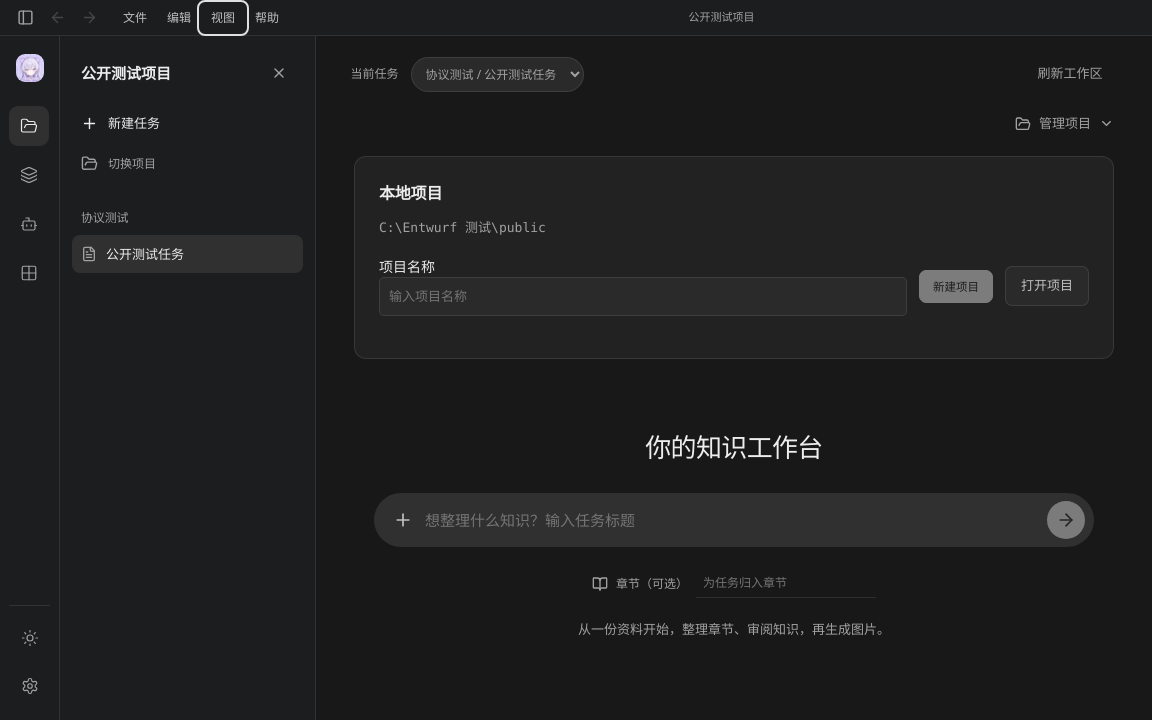
Test: quick jump works from keyboard and restores focus on Escape
expect the dropdown labelled "当前任务" is shown: met, box [411,56,584,92]
Type keys "{Control>}k{/Control}"
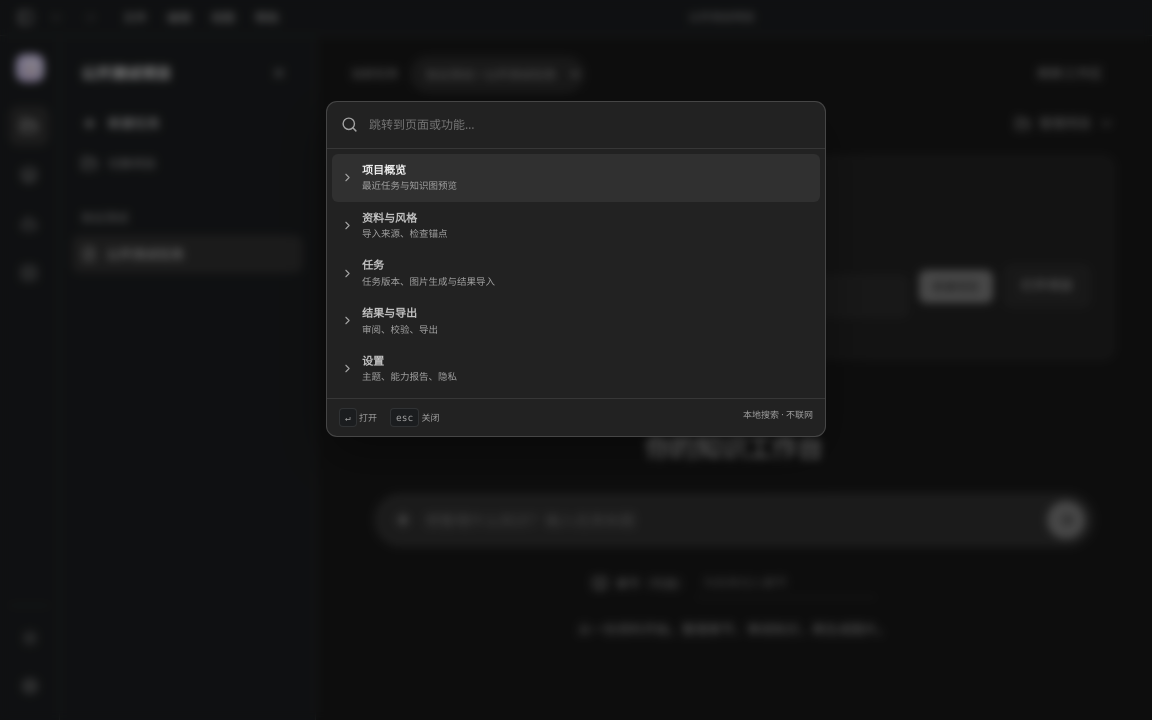
expect the dialog is shown: met, box [326,101,826,437]
Press Escape
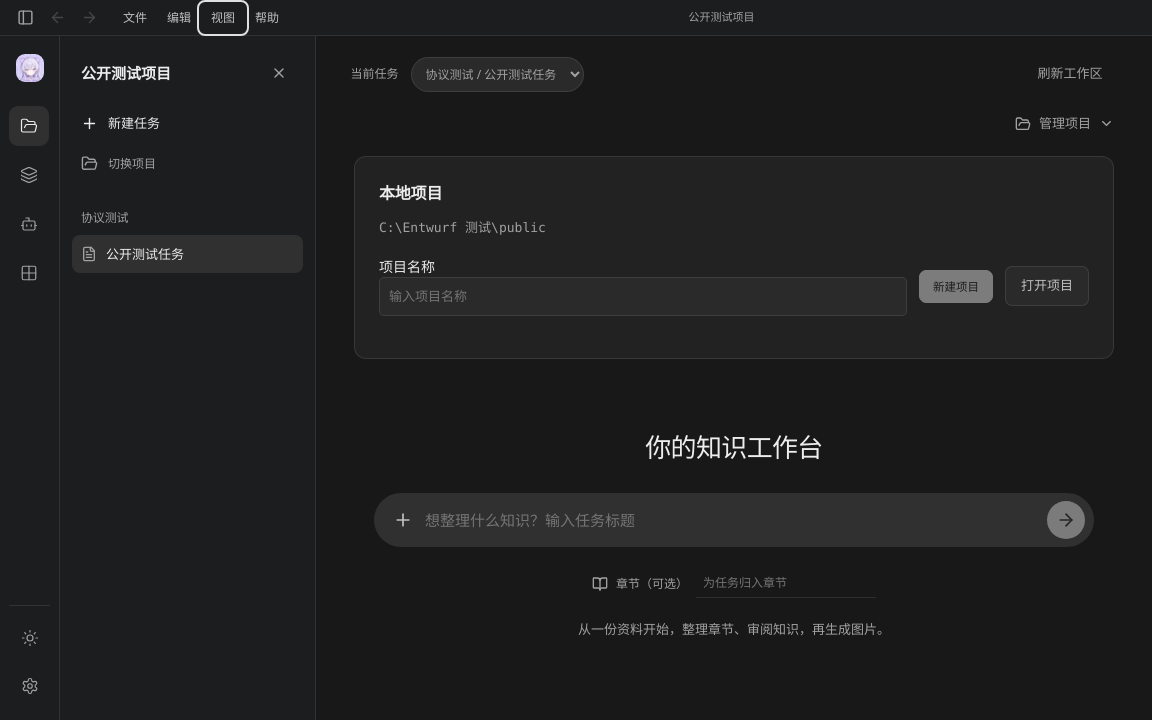
Click the button "视图" at (223, 18), box [201,4,245,32]
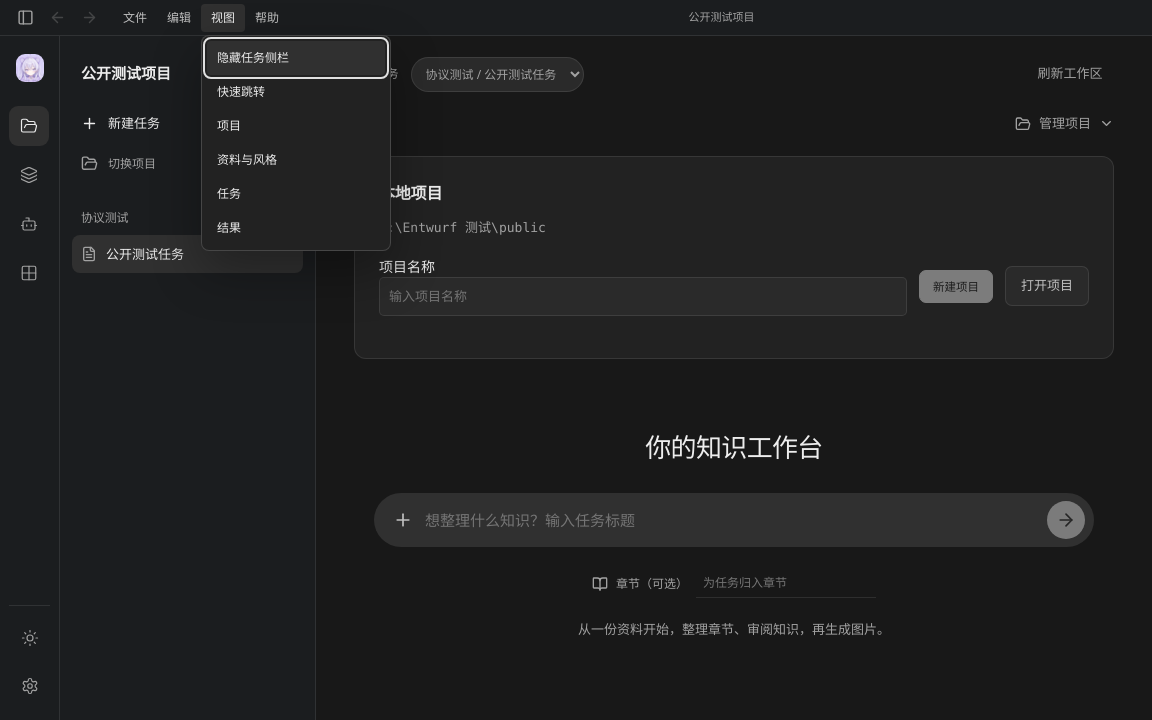
Click the menu item "快速跳转" at (296, 92), box [207,74,385,108]
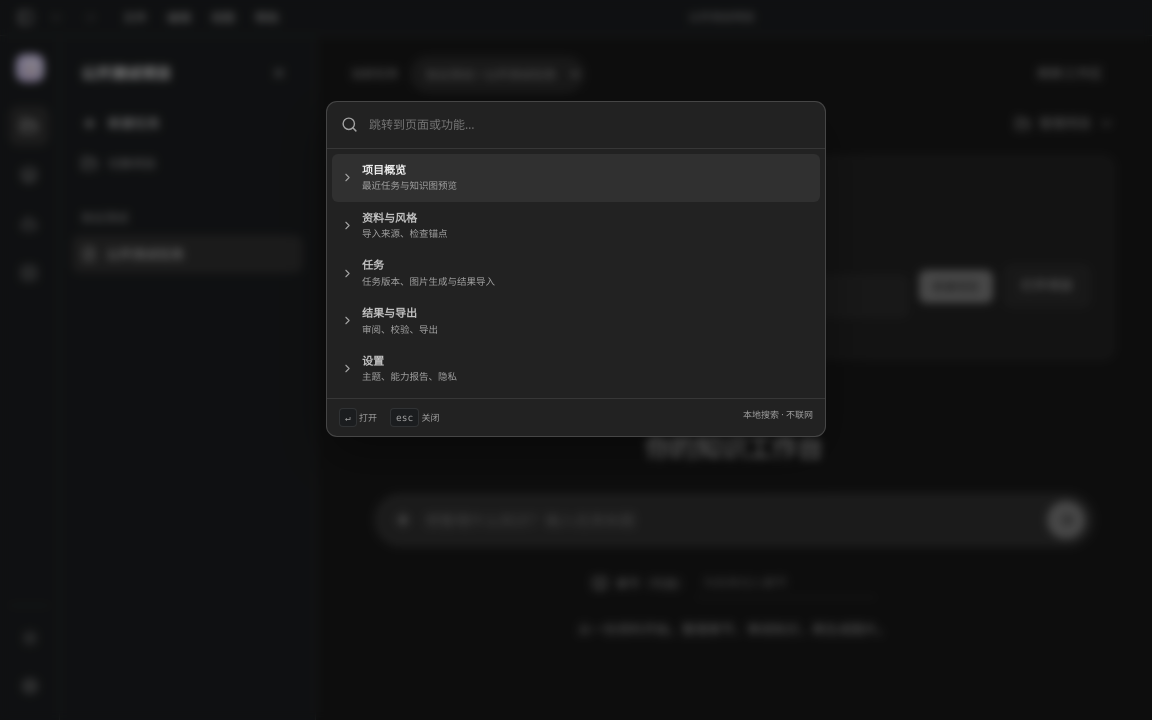
Type "设置" into the field named "搜索页面" at (589, 125), box [367,115,811,135]
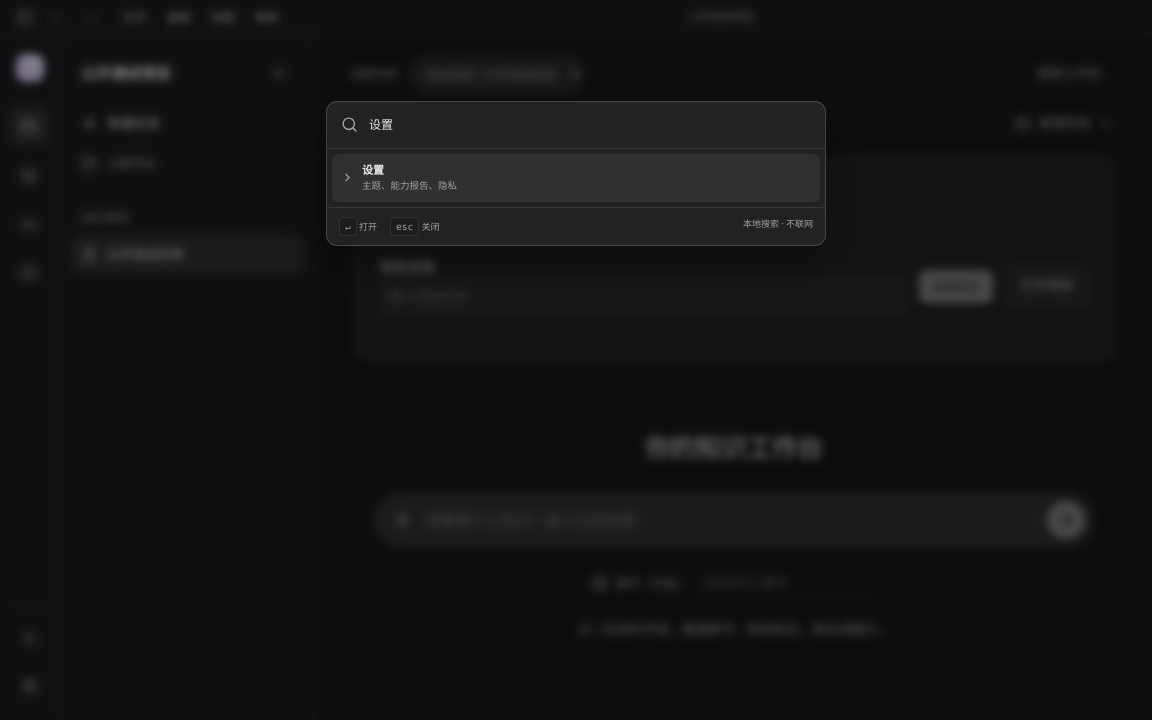
Press Enter
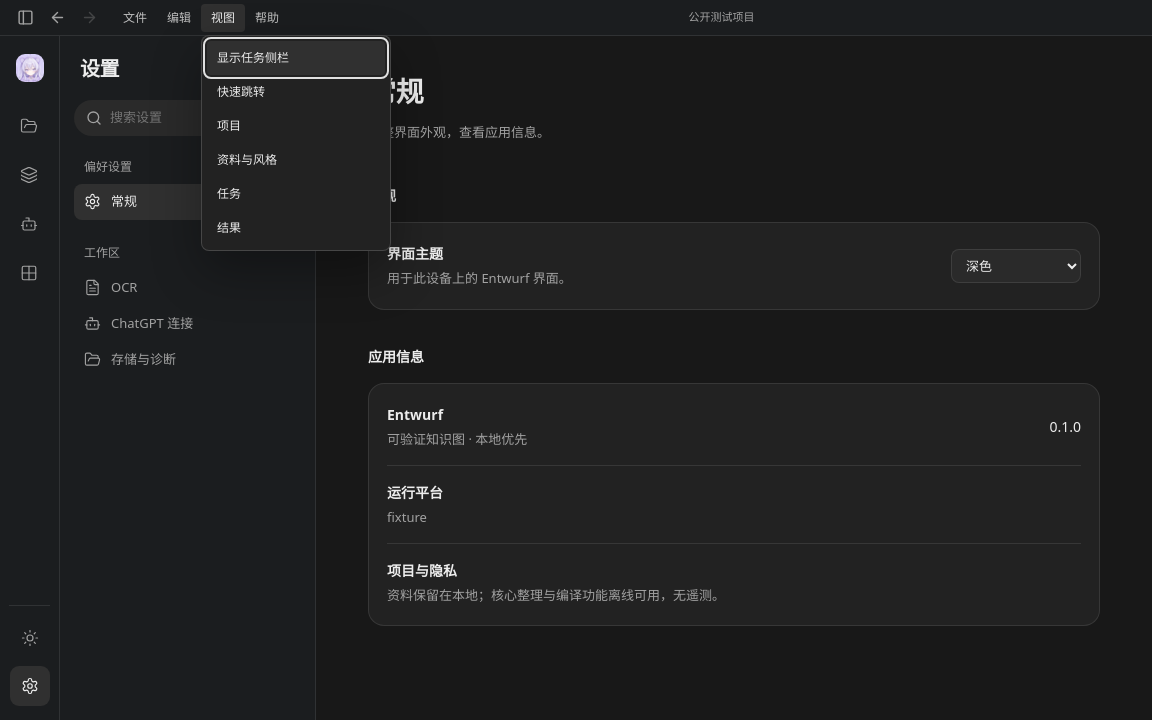
expect the heading "设置" is shown: met, box [80,55,119,82]
